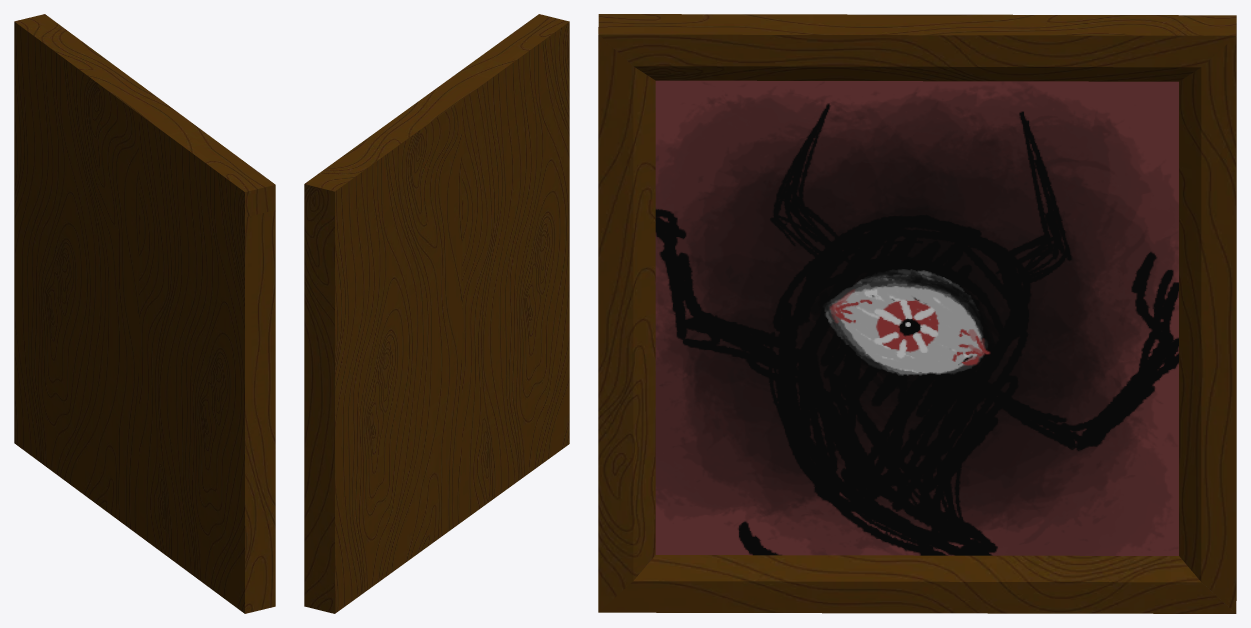
The model's file is Picture_V1.fbx.
3 views of the same model, side by side, from view 1: azimuth 30°, elevation 25°; view 2: azimuth 150°, elevation 25°; view 3: azimuth 270°, elevation 25° (orthographic). The views are drawn at different scales.
Parts seen in each view (by area): view 1: Picture_V1; view 2: Picture_V1; view 3: Picture_V1.
Part boxes in pixels (x1,y1,x2,y2): Picture_V1: [14, 14, 275, 613]; Picture_V1: [304, 14, 569, 613]; Picture_V1: [598, 14, 1236, 613].
Bounding box in the file's own units: 3.47 × 42.89 × 42.9.
